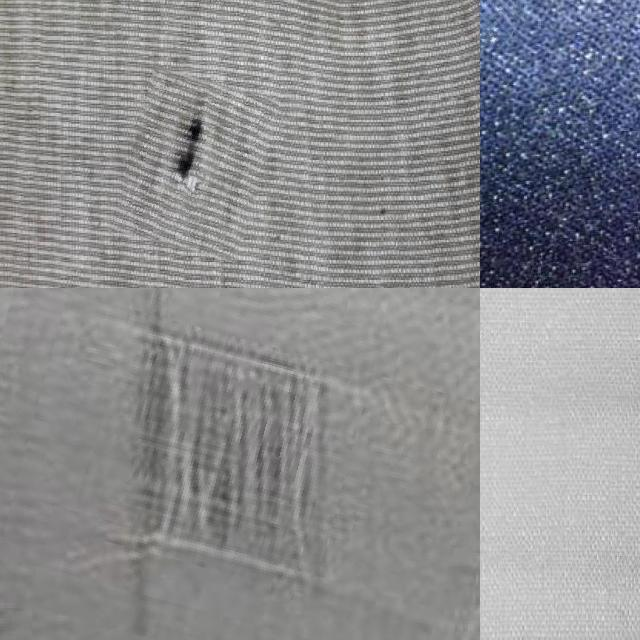other: (120, 73, 270, 256)
stains: (0, 288, 480, 640)
